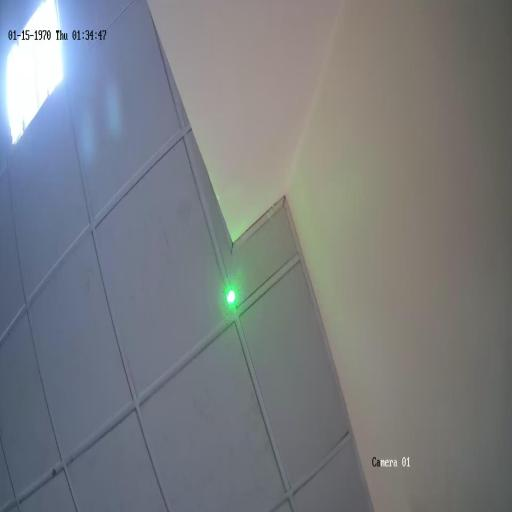laser: (220, 275, 243, 318)
